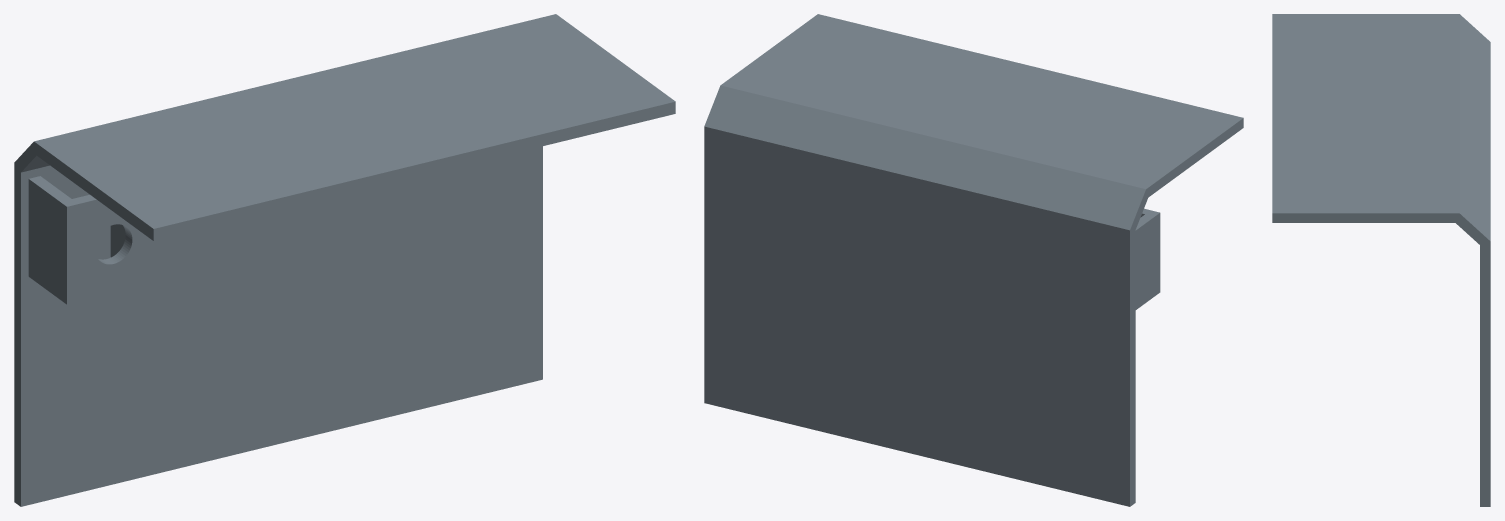
Rendered from throttle-linkage-shield-estimated.glb.
3 views of the same model, side by side, from view 1: azimuth 30°, elevation 25°; view 2: azimuth 150°, elevation 25°; view 3: azimuth 270°, elevation 25° (orthographic). The views are drawn at different scales.
Parts seen in each view (by area): view 1: world; view 2: world; view 3: world.
Part boxes in pixels (x1=…): world: x1=14, y1=14, x2=675, y2=506; world: x1=704, y1=14, x2=1243, y2=506; world: x1=1272, y1=14, x2=1490, y2=506.
Bounding box in the file's own units: 0.067 × 0.046 × 0.031.
